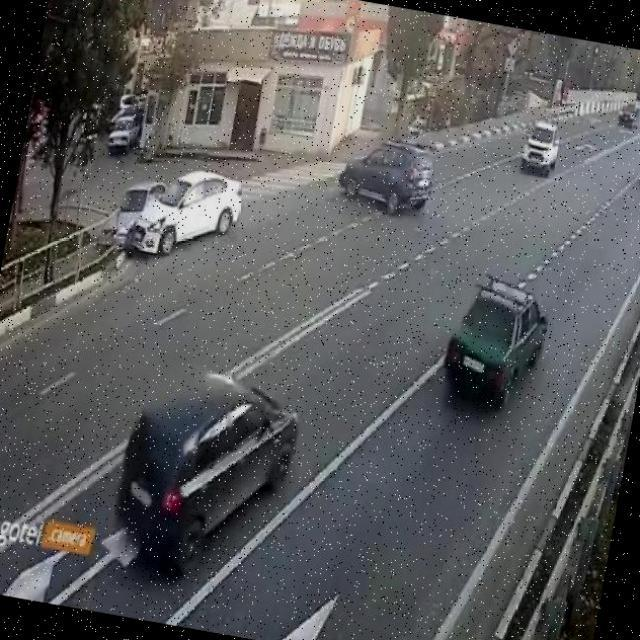accident: (108, 186, 193, 263)
